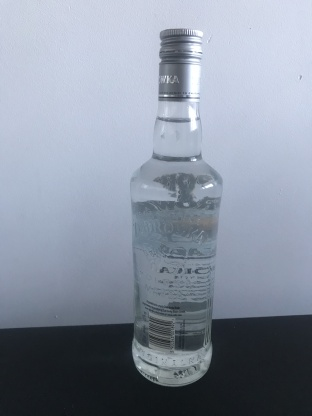nakretka: (156, 26, 204, 103)
